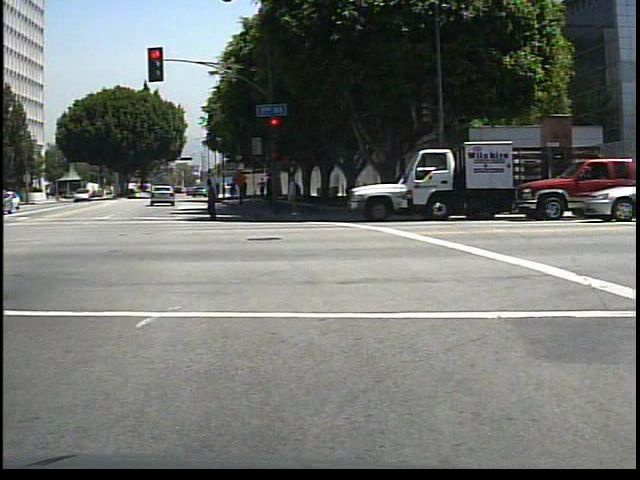person: (281, 168, 307, 217), (201, 178, 227, 221), (264, 171, 281, 214), (255, 175, 267, 199)
